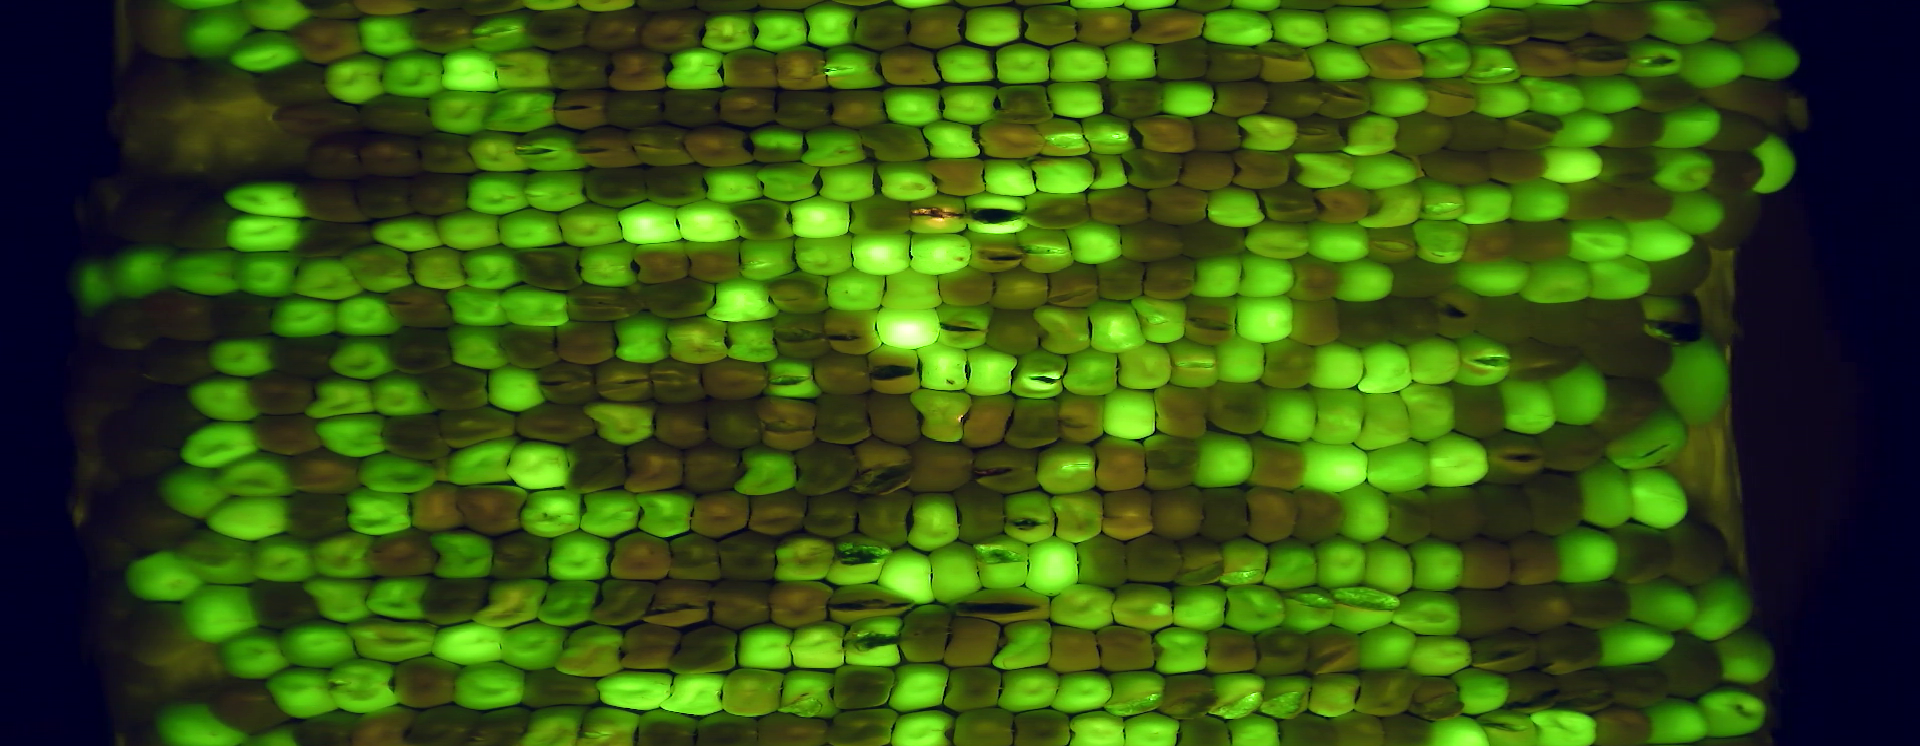fluorescent: (1660, 336, 1730, 430), (1605, 415, 1692, 473), (181, 584, 260, 644), (147, 701, 249, 746), (1625, 463, 1692, 530), (206, 492, 295, 541), (1575, 463, 1640, 530), (1689, 578, 1755, 643), (158, 461, 229, 521), (181, 527, 253, 586), (1300, 439, 1374, 496), (1352, 388, 1416, 453), (263, 665, 339, 719), (348, 615, 437, 660), (733, 446, 807, 501), (1551, 360, 1611, 428), (1390, 586, 1468, 637), (1330, 578, 1400, 636), (1551, 528, 1622, 584), (327, 658, 403, 710), (1696, 688, 1776, 737), (876, 546, 940, 606), (180, 419, 263, 465), (1422, 435, 1491, 490), (1716, 628, 1779, 688), (580, 399, 666, 443), (545, 530, 615, 584), (278, 621, 359, 668), (1499, 379, 1561, 439), (223, 178, 310, 220), (825, 533, 891, 589), (574, 489, 647, 540), (454, 659, 527, 710), (127, 554, 201, 604), (1337, 486, 1397, 548), (235, 245, 298, 304), (190, 372, 264, 421), (1625, 579, 1700, 628), (771, 530, 838, 586), (1367, 442, 1439, 492), (475, 577, 547, 627), (343, 484, 415, 534), (924, 545, 984, 605), (1404, 535, 1466, 594), (1022, 539, 1085, 597), (465, 171, 535, 223), (1229, 294, 1300, 344), (500, 621, 571, 671), (216, 628, 287, 679), (707, 281, 787, 325), (168, 247, 236, 299), (1358, 537, 1417, 597), (910, 388, 973, 443), (1598, 621, 1675, 666), (555, 201, 626, 250), (1649, 100, 1717, 152), (294, 255, 362, 305), (560, 624, 623, 677), (536, 578, 602, 630), (251, 530, 317, 582), (905, 491, 962, 550), (1679, 38, 1746, 88), (1451, 334, 1513, 388), (340, 245, 409, 294), (305, 575, 373, 624), (893, 661, 956, 714), (489, 86, 555, 136), (634, 490, 700, 540), (359, 454, 443, 494), (1089, 300, 1149, 355), (1313, 535, 1373, 590), (596, 668, 673, 710), (1260, 387, 1321, 441), (1398, 387, 1460, 441), (1193, 434, 1254, 488), (506, 441, 573, 490), (324, 51, 387, 104), (1313, 385, 1365, 447), (1751, 134, 1802, 197), (429, 622, 507, 664), (111, 245, 176, 295), (776, 668, 841, 718), (227, 29, 300, 73), (1663, 189, 1729, 238), (612, 314, 673, 366), (446, 442, 517, 488), (519, 490, 587, 538), (362, 575, 430, 622), (444, 322, 508, 372), (431, 533, 495, 583), (307, 374, 380, 418), (872, 304, 944, 348), (1625, 216, 1695, 261), (1734, 36, 1804, 81), (460, 244, 527, 292), (972, 535, 1033, 587), (1521, 258, 1588, 305), (381, 50, 444, 99), (1202, 9, 1277, 50), (1643, 1, 1718, 43), (849, 233, 917, 278), (878, 268, 947, 314), (1644, 699, 1713, 745), (1210, 671, 1267, 725), (790, 235, 860, 279), (186, 9, 247, 59), (823, 43, 884, 93), (204, 337, 280, 377), (216, 458, 296, 496), (1364, 76, 1431, 121), (613, 200, 684, 243), (1131, 292, 1188, 345), (372, 214, 449, 254), (427, 88, 492, 135), (331, 334, 396, 381), (996, 668, 1060, 714), (1147, 627, 1212, 674), (722, 315, 782, 365), (495, 208, 567, 250), (495, 47, 556, 96), (1278, 584, 1340, 633), (1586, 256, 1652, 301), (1409, 631, 1476, 676), (501, 284, 571, 327), (1329, 258, 1396, 303), (1266, 538, 1320, 593), (1002, 492, 1058, 545), (1010, 350, 1068, 402), (934, 303, 994, 352), (1307, 342, 1367, 391), (842, 619, 902, 668), (1527, 708, 1604, 746), (268, 296, 343, 336), (1224, 581, 1286, 628), (1232, 254, 1298, 298), (1450, 666, 1512, 713), (673, 200, 741, 243), (1458, 258, 1534, 296), (936, 43, 1000, 87), (1507, 179, 1572, 223), (1569, 218, 1633, 262), (662, 673, 727, 717), (1576, 73, 1644, 115), (527, 127, 588, 174), (1356, 624, 1417, 670), (1518, 73, 1584, 116), (1304, 219, 1370, 262), (484, 366, 546, 412), (991, 40, 1053, 86), (1213, 334, 1270, 385), (1062, 348, 1120, 396), (823, 269, 890, 311), (1049, 586, 1117, 627), (1324, 6, 1395, 45), (756, 158, 820, 201), (321, 412, 386, 454), (578, 243, 639, 288), (994, 622, 1056, 668), (1168, 584, 1229, 630), (1103, 387, 1156, 440), (1242, 218, 1310, 258), (358, 15, 420, 59), (737, 238, 800, 282), (1307, 42, 1373, 83), (1029, 154, 1098, 194), (1412, 218, 1471, 265), (1106, 670, 1164, 717), (440, 208, 500, 254), (468, 131, 528, 176), (313, 532, 373, 577), (1656, 148, 1717, 192), (913, 344, 970, 392), (787, 622, 844, 670), (1056, 670, 1113, 717), (1234, 113, 1300, 153), (1046, 40, 1109, 82), (1469, 78, 1533, 120), (332, 296, 402, 334), (444, 45, 497, 96), (370, 375, 437, 414), (760, 359, 828, 398), (961, 6, 1026, 47), (789, 198, 853, 239), (1406, 338, 1463, 383), (446, 285, 508, 327), (1157, 78, 1220, 120), (964, 194, 1030, 233), (966, 345, 1015, 398), (1360, 343, 1413, 392), (910, 232, 973, 272), (1359, 187, 1423, 228), (1344, 115, 1404, 158), (410, 247, 471, 289), (939, 85, 1000, 126), (580, 704, 642, 746), (528, 171, 593, 211), (876, 159, 938, 200), (1540, 143, 1603, 184), (801, 2, 860, 45), (1551, 111, 1618, 149), (669, 48, 729, 89), (804, 125, 864, 167), (817, 158, 877, 200), (1266, 9, 1330, 48), (1414, 176, 1471, 220), (1118, 345, 1174, 390), (1349, 151, 1417, 187), (883, 83, 940, 126), (1456, 183, 1513, 225), (1220, 540, 1272, 587), (520, 707, 583, 746), (1167, 339, 1221, 385), (1389, 7, 1462, 40), (1464, 40, 1520, 85), (702, 162, 765, 200), (700, 10, 757, 53), (1190, 257, 1247, 300), (740, 625, 796, 668), (752, 11, 809, 53), (1205, 187, 1267, 225), (1416, 37, 1472, 78), (1478, 709, 1542, 746), (1262, 673, 1311, 720), (1068, 223, 1125, 263), (1622, 40, 1684, 78), (76, 258, 120, 311), (471, 15, 531, 53), (1298, 151, 1356, 190), (1063, 710, 1125, 746), (891, 709, 951, 746), (1102, 40, 1160, 78), (242, 1, 313, 32), (924, 120, 980, 159), (1082, 113, 1135, 153), (749, 125, 807, 162), (1120, 714, 1187, 746), (982, 158, 1038, 195), (1224, 710, 1282, 746), (1048, 80, 1107, 114), (1086, 149, 1129, 189), (1425, 722, 1490, 746), (242, 726, 299, 746), (1427, 1, 1490, 15), (170, 1, 233, 13), (520, 1, 579, 12), (1122, 1, 1180, 12), (1067, 1, 1127, 11), (578, 1, 636, 11), (895, 1, 951, 11), (1227, 1, 1283, 11), (1489, 1, 1536, 7), (1533, 1, 1591, 5)
nonfluorescent: (99, 481, 191, 548), (92, 416, 186, 474), (1660, 514, 1731, 588), (133, 388, 211, 448), (1654, 635, 1727, 698), (905, 439, 984, 496), (1703, 78, 1796, 127), (1597, 372, 1663, 441), (125, 600, 196, 664), (151, 647, 230, 703), (846, 437, 918, 499), (1586, 331, 1676, 379), (1474, 479, 1539, 544), (520, 663, 609, 710), (1534, 418, 1609, 474), (1522, 474, 1589, 537), (212, 677, 291, 730), (126, 1, 197, 60), (1607, 526, 1674, 586), (71, 518, 141, 576), (670, 625, 742, 680), (1474, 432, 1547, 488), (1205, 376, 1271, 436), (1646, 239, 1713, 298), (860, 390, 927, 448), (1533, 622, 1607, 676), (751, 396, 820, 452), (1502, 334, 1584, 382), (453, 481, 529, 533), (1139, 432, 1206, 490), (138, 288, 212, 341), (137, 337, 216, 386), (1427, 481, 1487, 545), (790, 441, 858, 496), (396, 657, 465, 709), (951, 481, 1010, 544), (851, 491, 916, 548), (680, 443, 746, 499), (722, 668, 790, 722), (973, 445, 1049, 492), (287, 16, 369, 60), (436, 405, 518, 450), (1506, 582, 1575, 635), (182, 60, 262, 105), (955, 586, 1053, 622), (1247, 432, 1308, 491), (1244, 483, 1302, 545), (1293, 488, 1349, 551), (498, 321, 564, 375), (129, 186, 187, 246), (702, 401, 771, 451), (809, 392, 876, 445), (1565, 579, 1636, 628), (1473, 294, 1540, 345), (959, 391, 1018, 450), (688, 491, 757, 541), (276, 99, 369, 136), (94, 299, 159, 352), (564, 439, 629, 491), (253, 64, 336, 105), (1450, 382, 1510, 439), (1092, 437, 1153, 492), (605, 529, 671, 579), (714, 532, 780, 582), (1152, 383, 1211, 440), (624, 440, 684, 495), (1304, 624, 1364, 679), (380, 413, 451, 459), (77, 176, 126, 244), (708, 581, 775, 630), (1464, 628, 1539, 673), (125, 58, 189, 109), (1145, 488, 1209, 539), (1583, 1, 1656, 47), (419, 366, 495, 409), (553, 318, 620, 367), (596, 576, 656, 630), (1704, 1, 1776, 47), (517, 247, 588, 293), (765, 579, 833, 627), (1711, 191, 1764, 250), (359, 96, 437, 136), (516, 404, 596, 443), (1253, 627, 1311, 681), (386, 285, 456, 331), (682, 125, 756, 168), (900, 606, 951, 668), (389, 328, 457, 375), (1092, 626, 1160, 673), (552, 287, 650, 318), (425, 575, 489, 624), (299, 218, 376, 258), (250, 413, 324, 454), (831, 665, 900, 710), (1103, 490, 1160, 545), (1457, 539, 1513, 594), (1004, 396, 1062, 450), (1526, 299, 1591, 347), (591, 355, 656, 403), (651, 577, 711, 628), (1356, 665, 1416, 717), (640, 281, 719, 320), (407, 706, 482, 746), (829, 584, 910, 622), (1451, 588, 1513, 637), (1386, 257, 1457, 300), (869, 342, 924, 397), (1198, 481, 1251, 538), (1518, 1, 1596, 40), (1180, 294, 1239, 345), (627, 126, 696, 170), (208, 292, 277, 336), (285, 452, 362, 491), (1567, 36, 1632, 82), (1460, 5, 1533, 45), (1703, 108, 1771, 152), (948, 612, 1000, 669), (1162, 673, 1221, 723), (407, 170, 471, 216), (1358, 40, 1427, 83), (544, 49, 612, 92), (264, 334, 339, 374), (702, 360, 774, 401), (354, 135, 420, 179), (1048, 624, 1104, 675), (1385, 490, 1436, 546), (1434, 285, 1484, 343), (1609, 665, 1676, 708), (1581, 296, 1644, 342), (577, 126, 640, 171), (1010, 706, 1081, 746), (371, 530, 436, 575), (818, 309, 887, 350), (943, 668, 1011, 709), (1056, 391, 1108, 445), (602, 86, 669, 129), (1509, 39, 1581, 78), (252, 579, 315, 625), (653, 401, 710, 450), (1389, 110, 1452, 154), (298, 176, 361, 220), (536, 363, 600, 407), (747, 492, 811, 537), (1588, 704, 1656, 746), (410, 10, 478, 51), (351, 174, 419, 216), (1420, 149, 1494, 187), (1177, 220, 1250, 258), (644, 9, 705, 54), (1510, 534, 1562, 587), (1075, 539, 1130, 589), (1261, 341, 1316, 391), (584, 167, 650, 208), (489, 534, 551, 578), (667, 534, 725, 582), (1134, 7, 1206, 45), (1025, 191, 1095, 230), (1288, 299, 1347, 345), (287, 490, 345, 537), (587, 6, 647, 51), (665, 87, 726, 131), (416, 131, 478, 175), (1127, 533, 1182, 582), (861, 125, 932, 163), (306, 136, 362, 184), (409, 484, 467, 530), (803, 491, 861, 538), (253, 372, 316, 415), (1555, 670, 1618, 713), (351, 706, 418, 746), (629, 709, 702, 746), (827, 709, 899, 746), (1120, 147, 1184, 189), (828, 88, 891, 130), (902, 5, 966, 47), (1386, 296, 1439, 347), (1337, 298, 1387, 350), (1207, 628, 1261, 677), (182, 205, 238, 252), (622, 624, 677, 671), (756, 713, 835, 746), (1512, 220, 1573, 263), (1151, 40, 1212, 83), (1707, 149, 1764, 195), (927, 156, 989, 197), (811, 353, 873, 394), (1204, 40, 1262, 85), (1120, 223, 1187, 262), (611, 48, 670, 92), (1178, 535, 1227, 588), (1233, 148, 1293, 191), (984, 309, 1044, 352), (771, 314, 831, 356), (773, 87, 833, 130), (855, 5, 910, 51), (1594, 146, 1662, 184), (640, 167, 708, 205), (1151, 184, 1212, 225), (882, 47, 944, 87), (471, 706, 534, 746), (1046, 268, 1104, 311), (769, 271, 828, 314), (1258, 42, 1318, 83), (1266, 78, 1326, 120), (527, 11, 590, 50), (1562, 180, 1619, 224), (733, 202, 795, 243), (716, 87, 778, 127), (1089, 187, 1153, 225), (1638, 73, 1701, 113), (1613, 181, 1675, 220), (692, 710, 760, 746), (1485, 147, 1551, 184), (1107, 78, 1167, 119), (1180, 151, 1240, 191), (1260, 185, 1320, 225), (980, 122, 1043, 160), (1289, 254, 1340, 301), (1413, 675, 1464, 722), (1145, 256, 1198, 301), (1021, 5, 1080, 45), (1504, 673, 1562, 713), (1611, 107, 1667, 149), (553, 86, 609, 129), (636, 243, 696, 282), (775, 50, 831, 92), (684, 239, 741, 281), (1315, 185, 1373, 225), (1134, 116, 1195, 154), (115, 698, 163, 746), (1100, 257, 1149, 304), (851, 197, 911, 235), (997, 85, 1053, 125), (649, 360, 705, 401), (294, 710, 362, 744), (1075, 5, 1133, 44), (1212, 80, 1270, 119), (1460, 222, 1515, 262), (1501, 114, 1564, 149), (1189, 114, 1245, 153), (992, 272, 1052, 309), (1296, 118, 1349, 158), (1451, 113, 1506, 152), (1364, 225, 1419, 265), (969, 233, 1020, 274), (722, 50, 780, 87), (1423, 78, 1477, 118), (1321, 78, 1371, 120), (938, 269, 994, 306), (1333, 710, 1391, 746), (1276, 714, 1340, 746), (953, 713, 1014, 746), (1176, 713, 1234, 746), (103, 576, 143, 624), (1378, 710, 1430, 746), (295, 1, 370, 22), (354, 1, 424, 15), (462, 1, 527, 13), (754, 1, 814, 12), (696, 1, 760, 11), (1280, 1, 1338, 11), (1173, 1, 1233, 10), (640, 1, 699, 10), (1329, 1, 1386, 10), (951, 1, 1016, 9), (414, 1, 465, 10), (1382, 1, 1431, 10), (833, 1, 887, 6), (1015, 1, 1069, 5)
